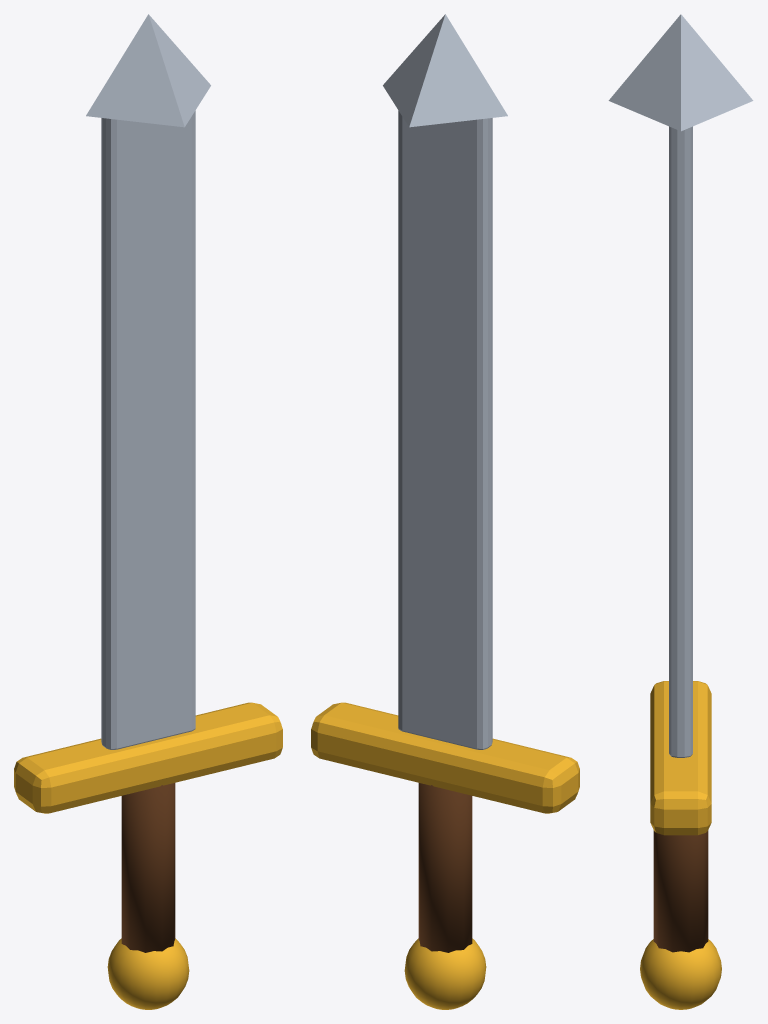
File: sword.glb
The picture shows the model from 3 angles, left to right: view 1: azimuth 30°, elevation 25°; view 2: azimuth 150°, elevation 25°; view 3: azimuth 270°, elevation 25°; orthographic projection.
Visible parts, largest first — view 1: blade, guard, grip, tip, pommel; view 2: blade, guard, grip, tip, pommel; view 3: blade, tip, guard, grip, pommel.
Part boxes in pixels (box(x1,y1,x2,y2)): blade: box(101, 110, 195, 749); guard: box(14, 702, 282, 813); grip: box(121, 783, 175, 952); tip: box(86, 14, 210, 127); pommel: box(107, 938, 189, 1009); blade: box(398, 110, 492, 749); guard: box(311, 702, 579, 813); grip: box(418, 783, 472, 952); tip: box(383, 14, 507, 127); pommel: box(404, 938, 486, 1009); blade: box(669, 126, 692, 757); tip: box(608, 14, 753, 131); guard: box(650, 681, 711, 835); grip: box(653, 830, 708, 952); pommel: box(640, 939, 721, 1009).
Size of the model in its own units: 0.42 by 1.6 by 0.212.
